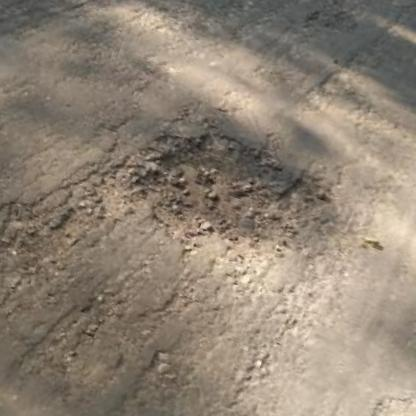pothole: (113, 102, 343, 275)
